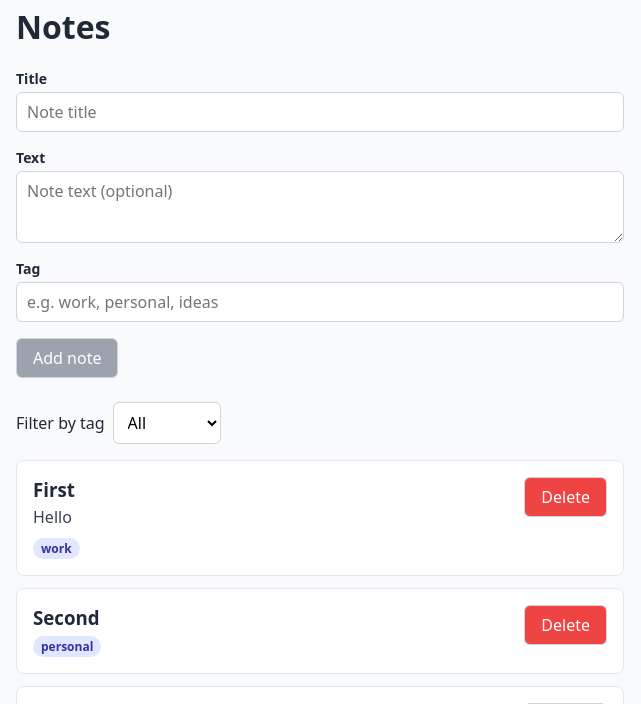
Test: Notes with tags UI › deletes a note and refreshes the list without a reload
The width and height of the screenshot is (641, 704).
expect the heading "First" is shown: met, box top-left (33, 477), bottom-right (80, 502)
Click the button with aria-label "Delete note First".
click(566, 497)  # box top-left (524, 477), bottom-right (607, 517)
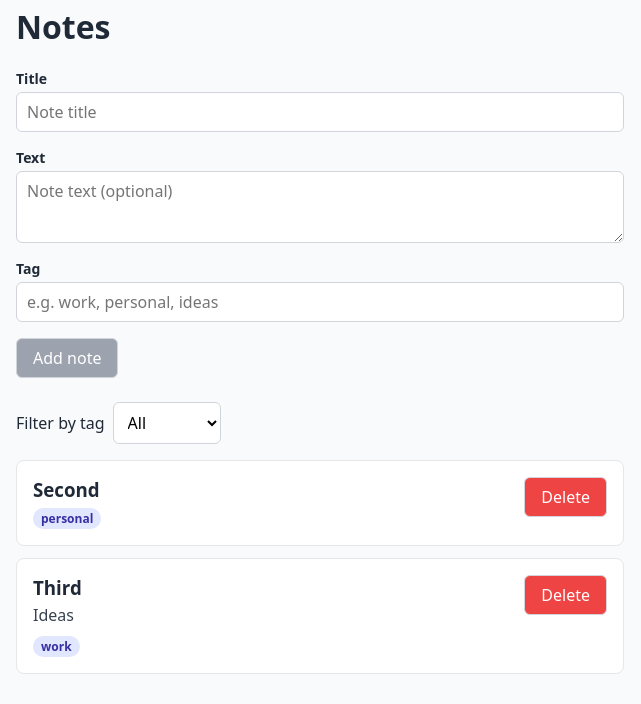
expect the heading "Second" is shown: met, box top-left (33, 477), bottom-right (101, 502)
expect the heading "First" is gone: met
